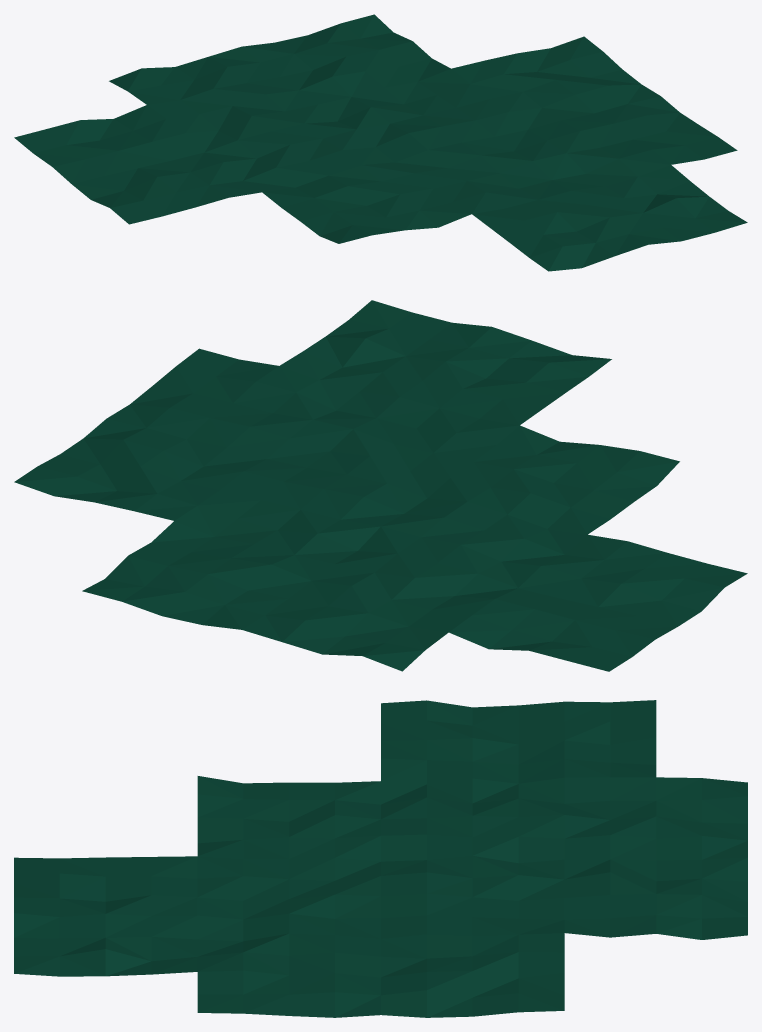
File: ripples0058.obj
3 views of the same model, one above another, from view 1: azimuth 30°, elevation 25°; view 2: azimuth 150°, elevation 25°; view 3: azimuth 270°, elevation 25° (orthographic). The views are drawn at different scales.
Parts seen in each view (by area): view 1: Lake_ripples_Mesh; view 2: Lake_ripples_Mesh; view 3: Lake_ripples_Mesh.
Boxes of the visible parts, x1=… form: Lake_ripples_Mesh: x1=14, y1=14, x2=747, y2=271; Lake_ripples_Mesh: x1=14, y1=300, x2=747, y2=671; Lake_ripples_Mesh: x1=14, y1=700, x2=747, y2=1017.
Bounding box in the file's own units: 20 × 0.3677 × 20.
